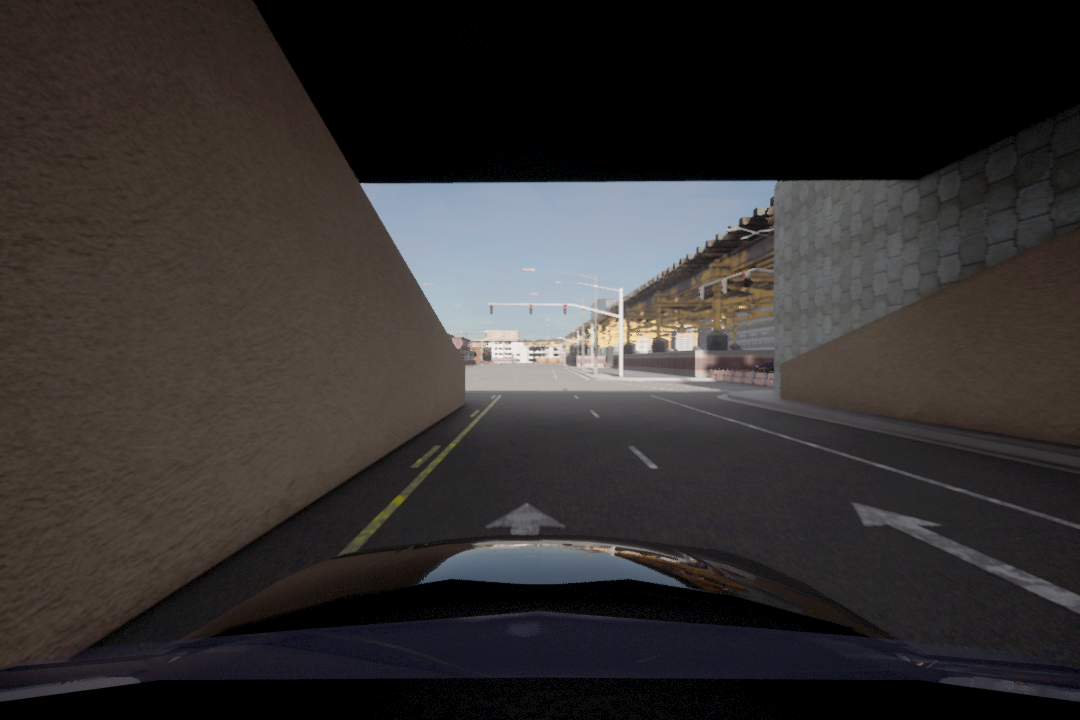RoadSign_forward: (841, 494, 1080, 617), (476, 487, 605, 546)
